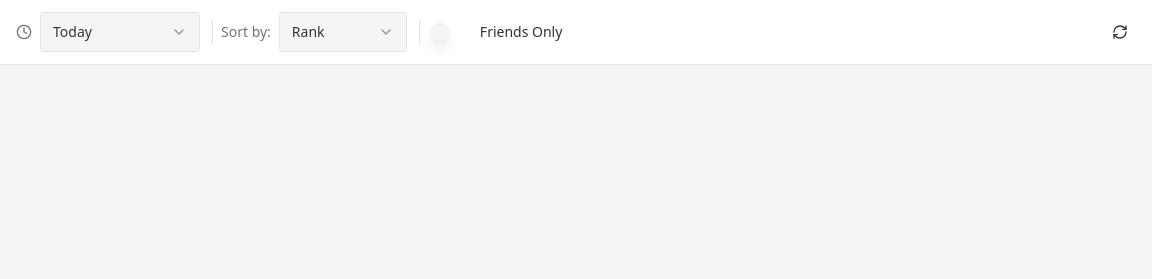
FilterBar Component › TC-FILTER-003: should display time period options
The image size is (1152, 279).
Click the dropdown labelled "Today" at (120, 32), box left=40, top=12, right=200, bottom=52
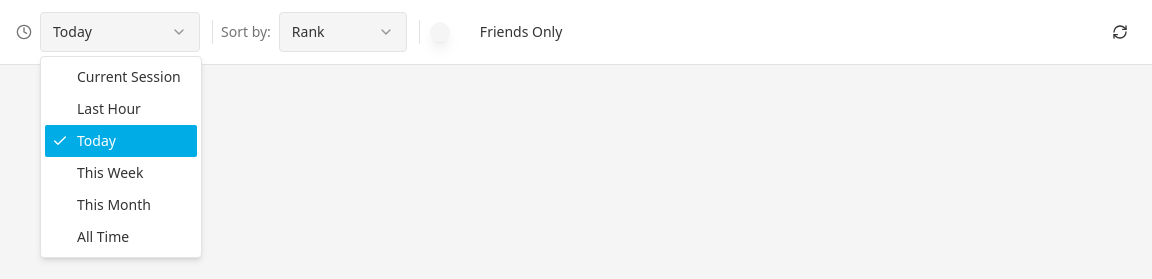
Expected: the text "Current Session" is shown, left=77, top=67, right=181, bottom=87
Expected: the text "Last Hour" is shown, left=77, top=99, right=141, bottom=119
Expected: the text "This Week" is shown, left=77, top=163, right=143, bottom=183
